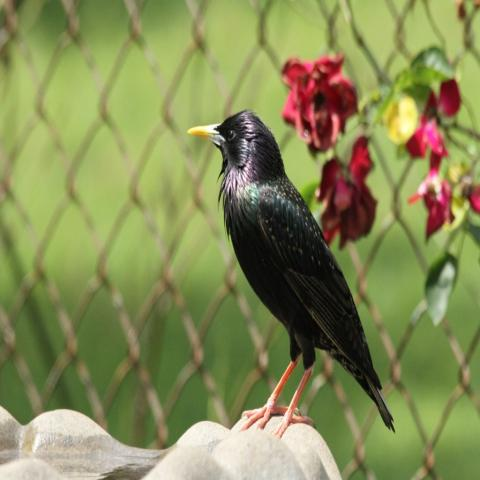bird: (185, 107, 397, 438)
